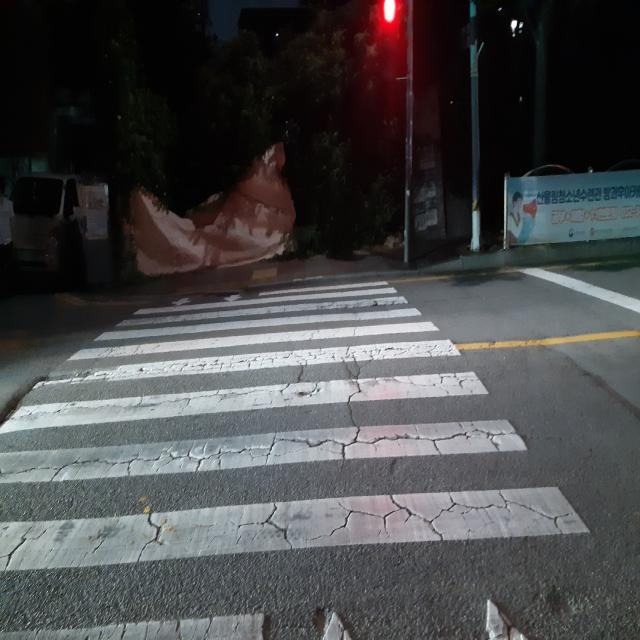빨간불: (382, 0, 396, 36)
횡단보도: (0, 280, 591, 640)
